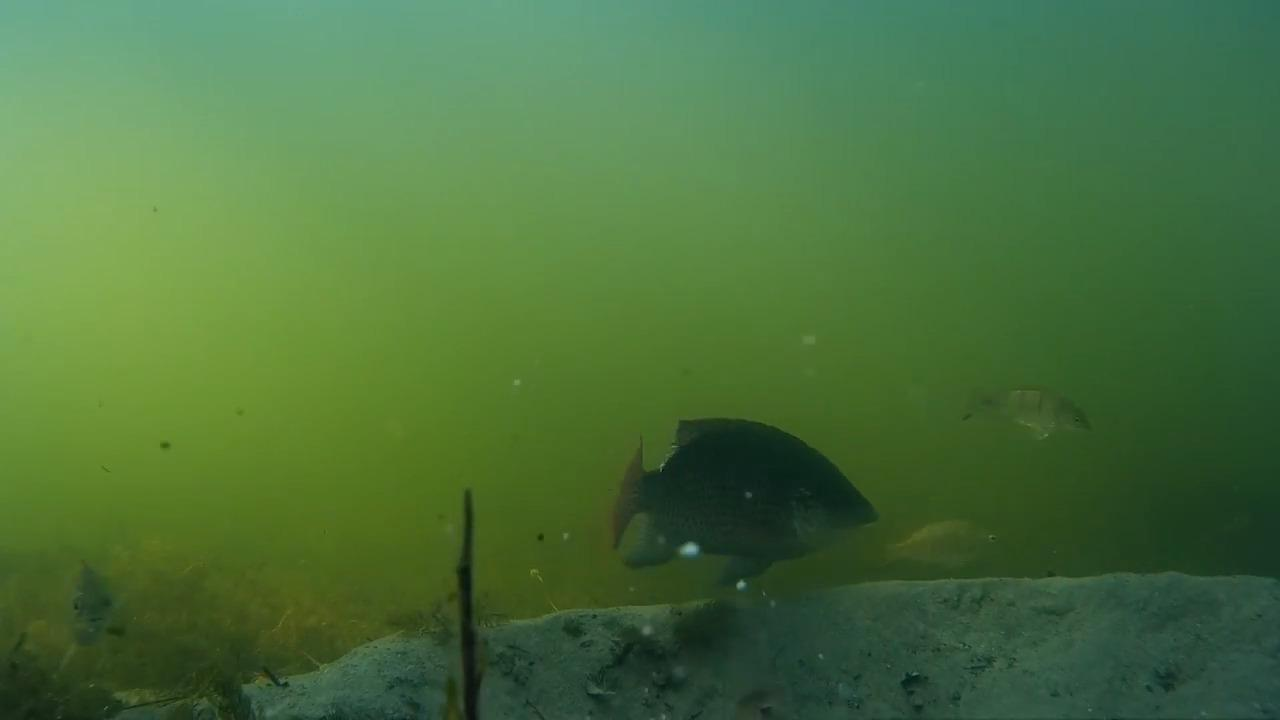Tilapia: (586, 412, 885, 592), (956, 374, 1129, 472), (882, 514, 1013, 588), (53, 556, 129, 650)
